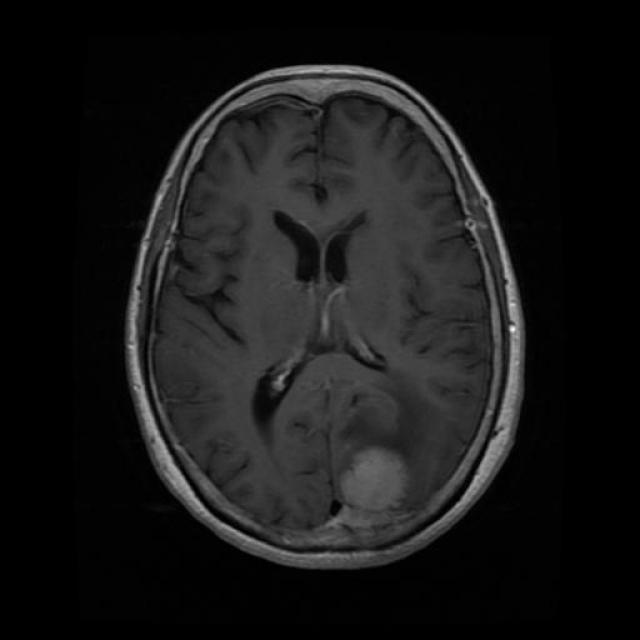Brain-Tumor: (326, 433, 432, 528)
